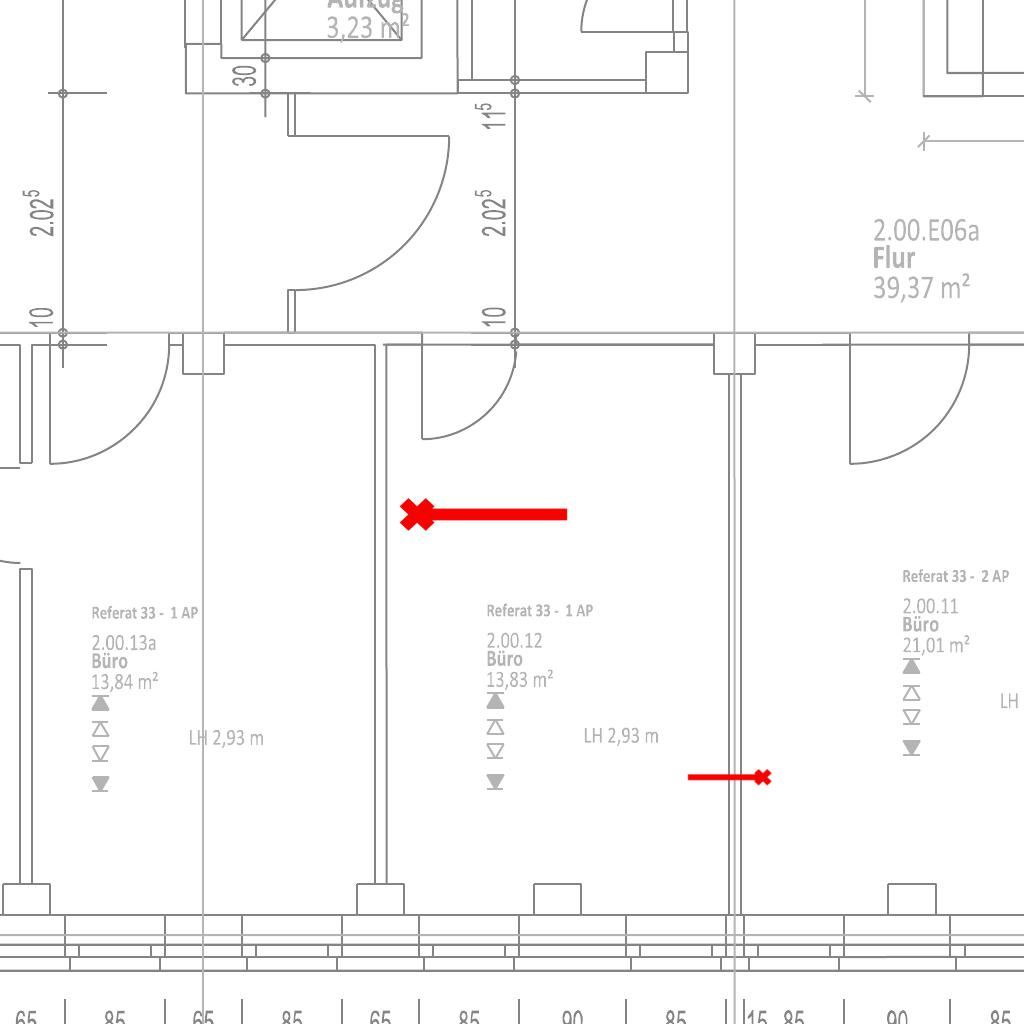ASR_Ansaugoeffnung: (397, 489, 573, 535), (685, 767, 773, 790)
